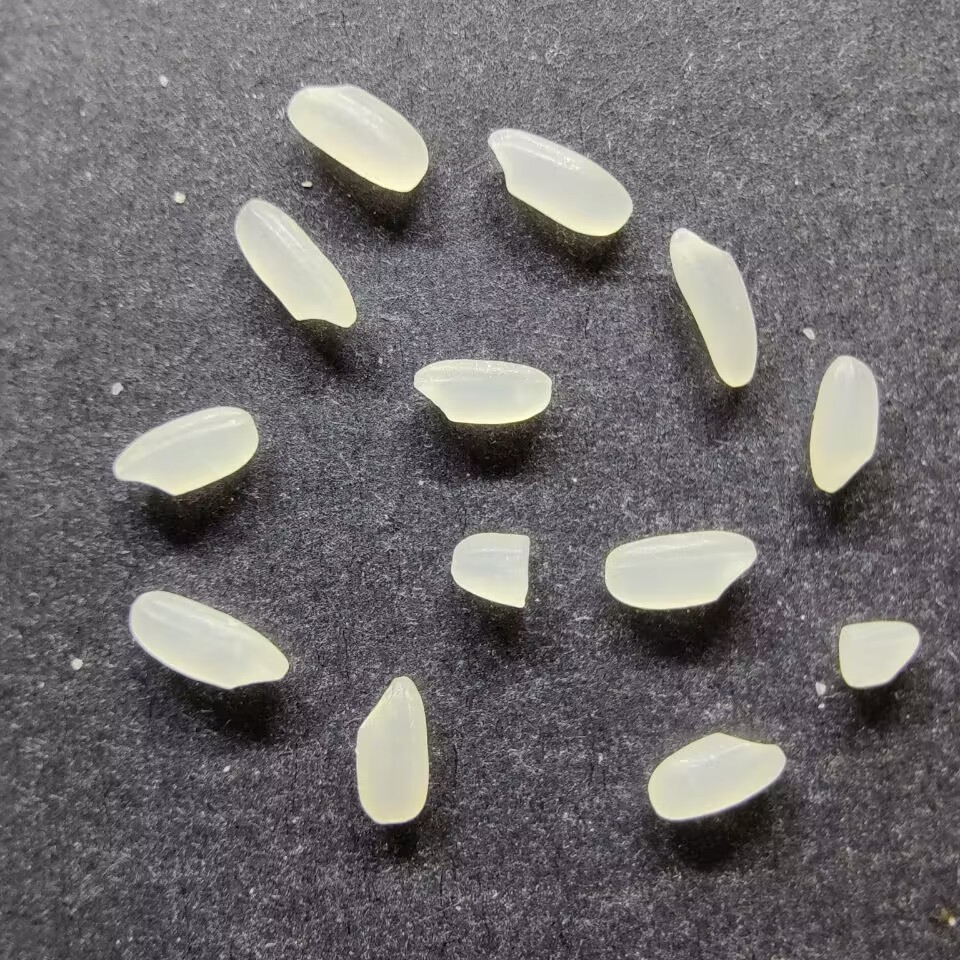broken: (449, 530, 532, 609), (837, 619, 923, 690)
rice: (231, 197, 360, 330), (127, 589, 291, 691), (486, 126, 635, 238), (285, 83, 430, 194), (668, 226, 760, 388), (110, 404, 260, 498), (646, 729, 788, 822), (603, 530, 760, 610), (353, 674, 431, 825), (807, 354, 881, 494), (412, 357, 553, 426)
